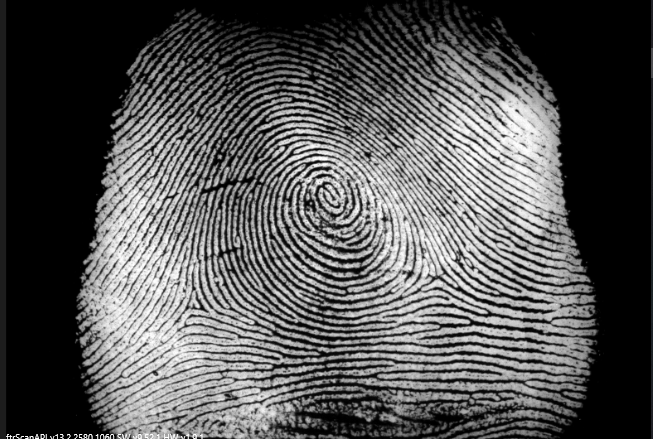nucelo: (314, 181, 348, 216)
verticilo: (420, 270, 452, 296), (181, 283, 202, 314)
